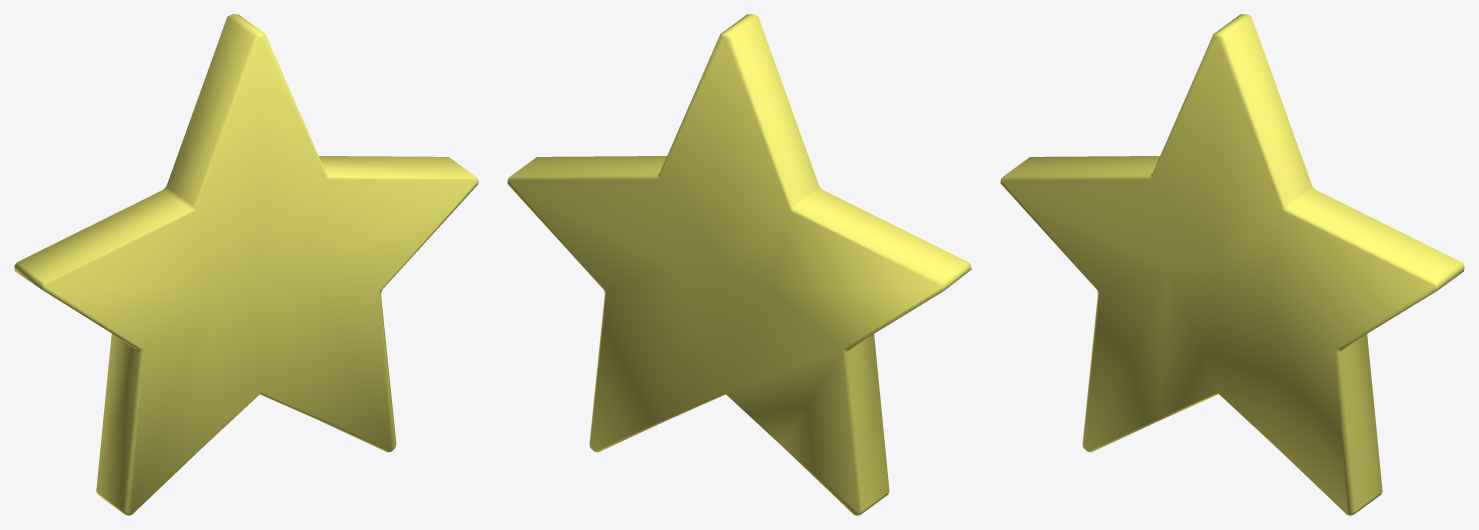
The model's file is Star.fbx.
3 renders of one model, left to right at view 1: azimuth 30°, elevation 25°; view 2: azimuth 150°, elevation 25°; view 3: azimuth 330°, elevation 25°, orthographic.
Visible parts, largest first — view 1: Cylinder; view 2: Cylinder; view 3: Cylinder.
Boxes of the visible parts, x1,y1,x2,y2 form: Cylinder: (14,14,478,515); Cylinder: (507,14,971,515); Cylinder: (1000,14,1464,515).
Bounding box in the file's own units: 77.14 × 75.97 × 9.11.
